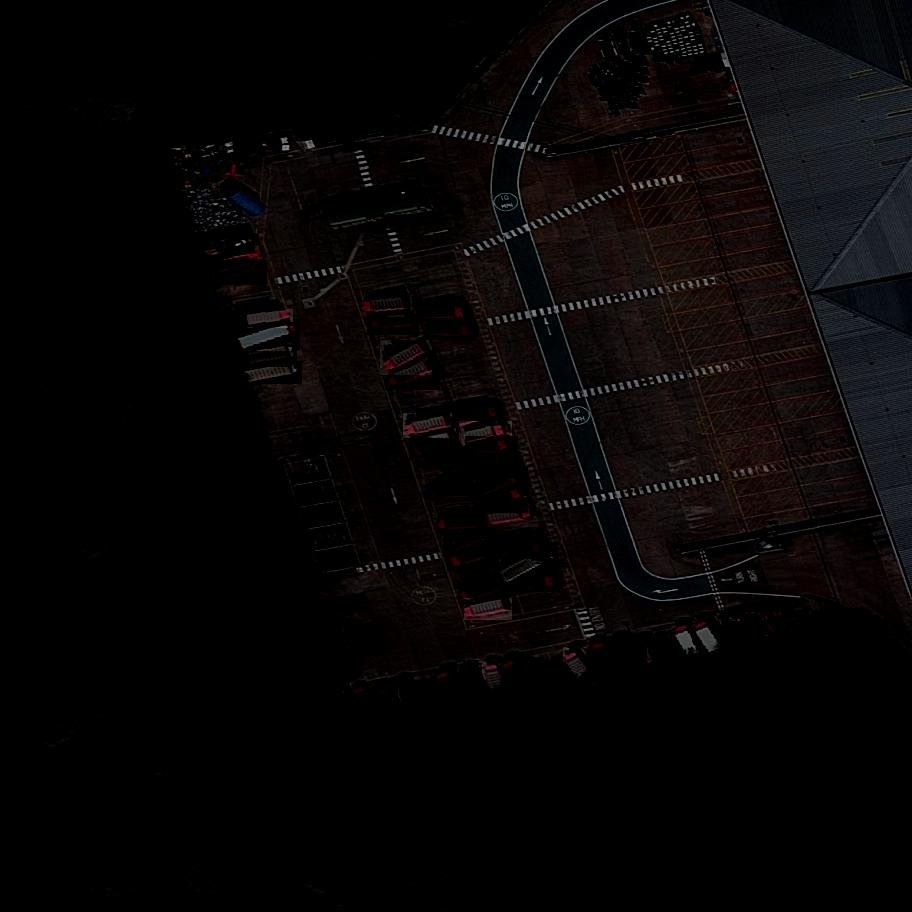large-vehicle: (499, 546, 558, 588), (235, 319, 301, 354), (380, 340, 433, 379), (409, 425, 461, 463), (435, 666, 476, 712), (564, 644, 604, 689), (477, 466, 529, 500), (385, 360, 440, 392), (501, 654, 540, 699), (609, 634, 648, 678), (458, 576, 510, 608), (443, 526, 495, 558), (447, 542, 500, 572), (465, 436, 517, 466), (371, 682, 406, 726), (479, 485, 530, 515), (453, 402, 506, 430), (243, 361, 302, 386), (404, 413, 458, 440), (633, 630, 666, 674), (395, 677, 427, 722), (454, 560, 501, 590), (482, 661, 515, 703), (459, 421, 512, 447), (239, 345, 298, 368), (671, 622, 704, 663), (215, 260, 267, 286), (460, 665, 492, 707), (693, 618, 726, 658), (589, 639, 619, 682), (487, 504, 540, 528), (351, 685, 382, 726), (367, 313, 419, 336), (464, 598, 514, 621), (508, 574, 563, 594), (239, 309, 293, 329), (363, 298, 413, 319), (472, 458, 524, 476), (497, 539, 550, 556), (417, 451, 467, 469), (425, 323, 477, 340), (427, 483, 478, 500), (437, 516, 487, 533), (419, 308, 472, 322)
